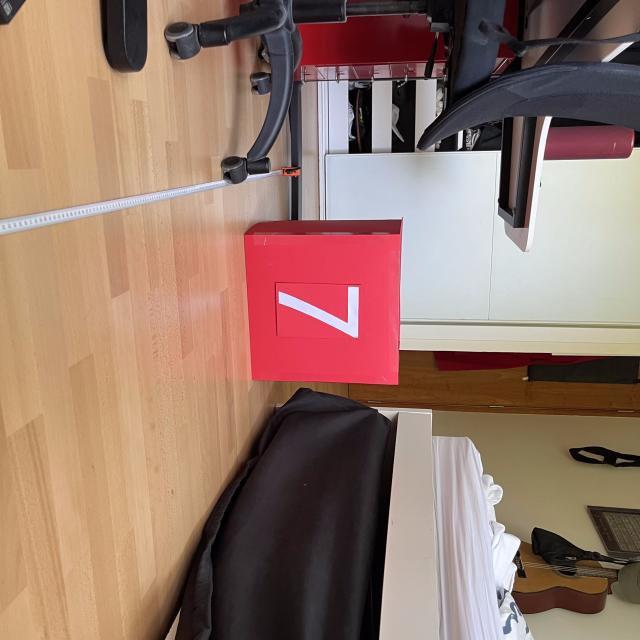box: (238, 214, 406, 387)
